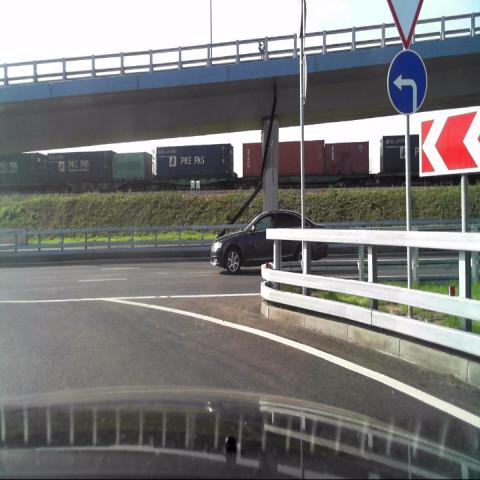4_1_3: (388, 44, 428, 116)
